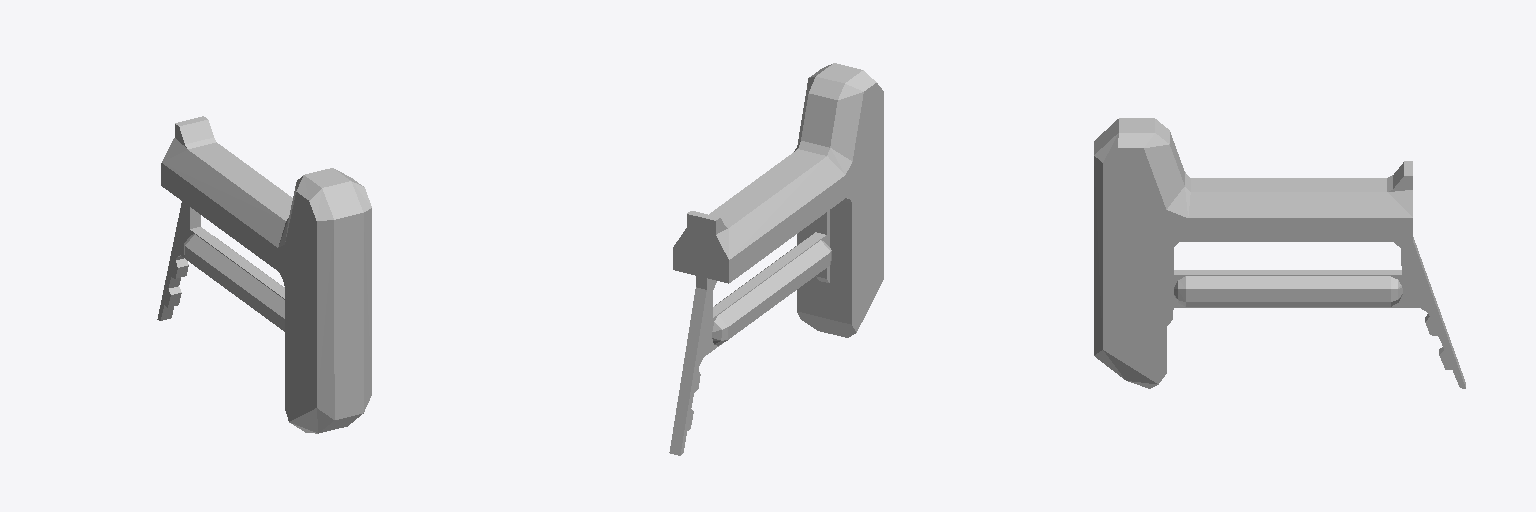
The model's file is stock1.obj.
The picture shows the model from 3 angles: view 1: azimuth 30°, elevation 25°; view 2: azimuth 150°, elevation 25°; view 3: azimuth 270°, elevation 25°; orthographic projection.
Visible parts, largest first — view 1: stock1; view 2: stock1; view 3: stock1.
Part boxes in pixels (x1,y1,x2,y2): stock1: (157,116,371,433); stock1: (669,63,883,455); stock1: (1094,118,1465,388).
Bounding box in the file's own units: 3.17 × 14.2 × 18.37.